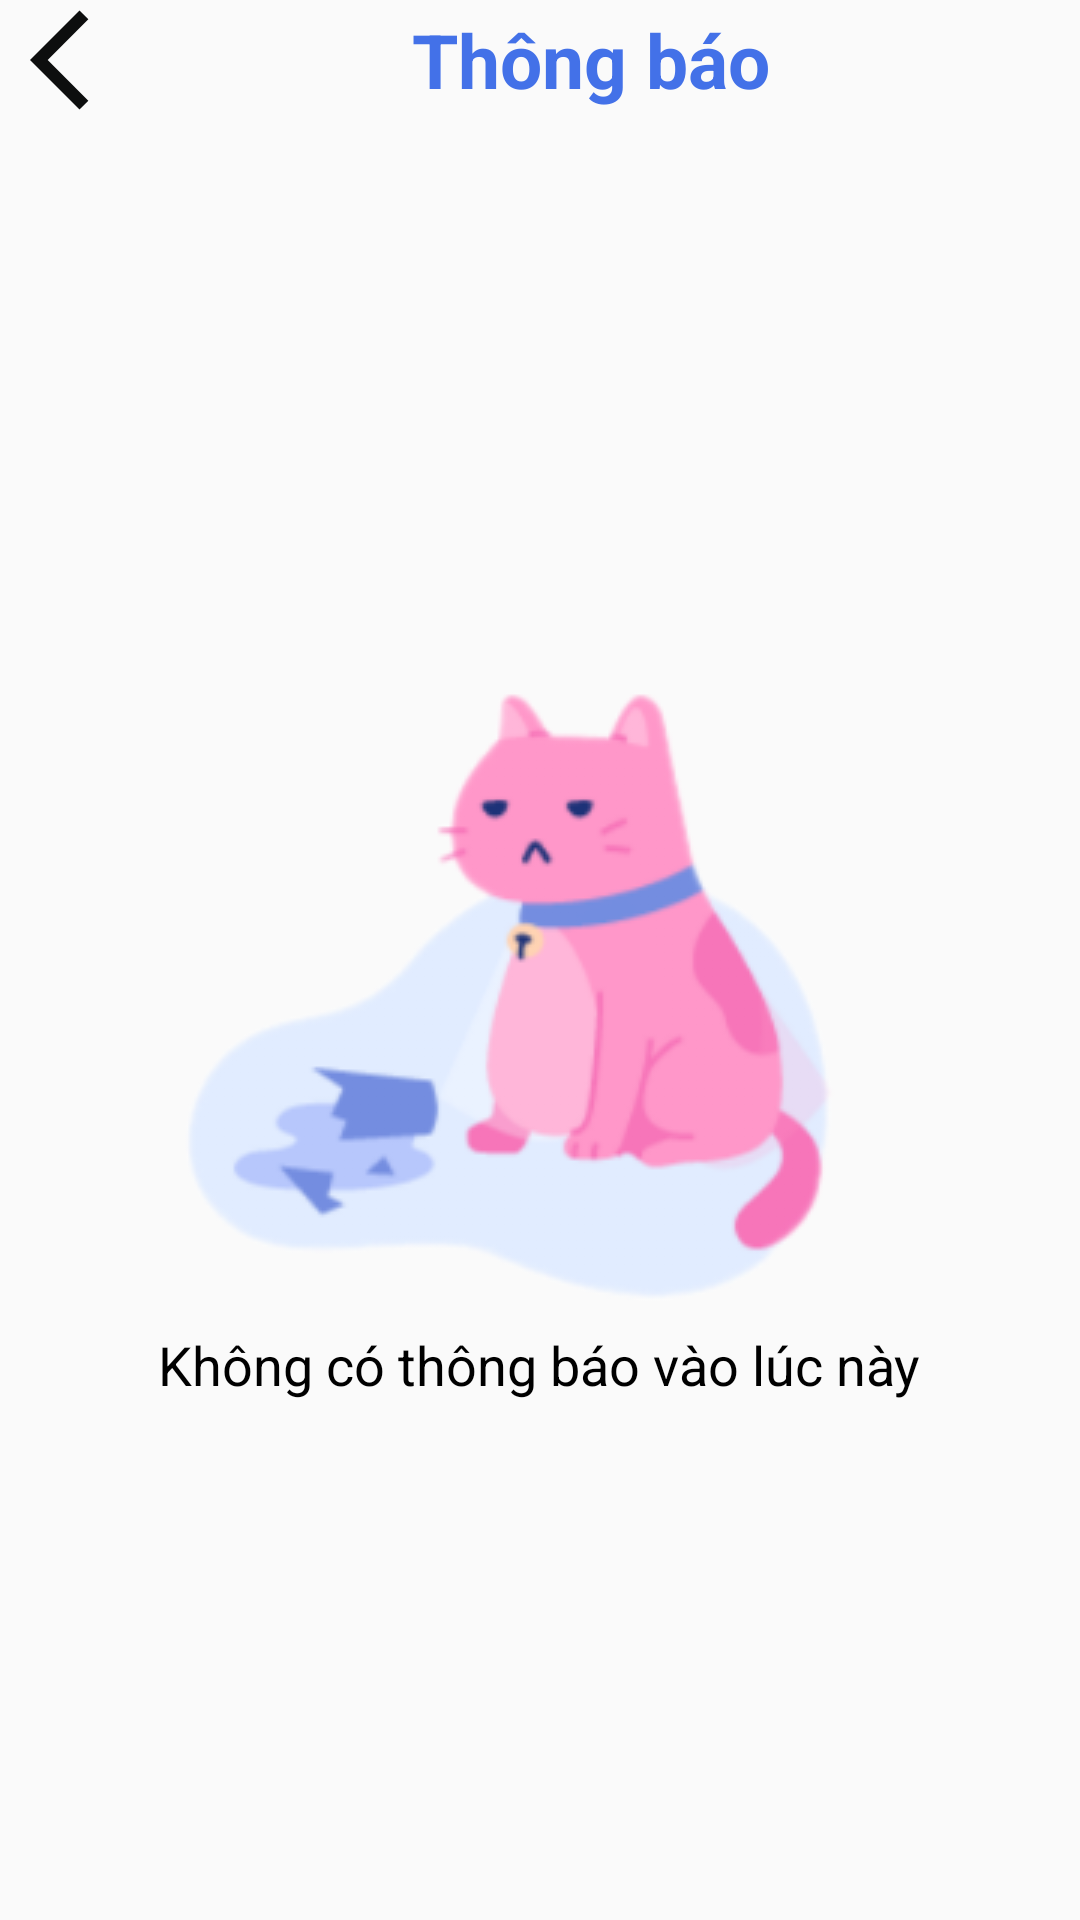

Named icons in this screenshot (1080 x 1920) and their bounding boxes, (x1, y1, x2, y2):
Back: (30, 10, 89, 110)
